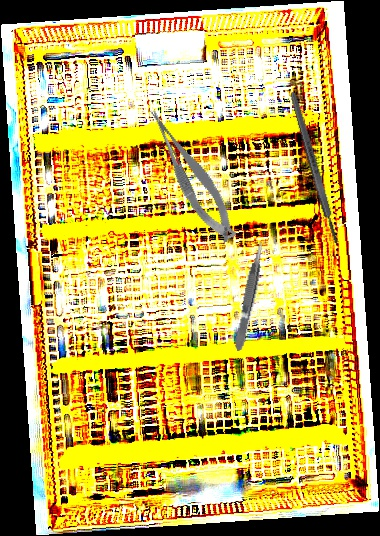Micro Scissor: (143, 98, 242, 251)
Scalpel Handle: (288, 89, 341, 247)
Tissue Forceps: (230, 238, 269, 353)
